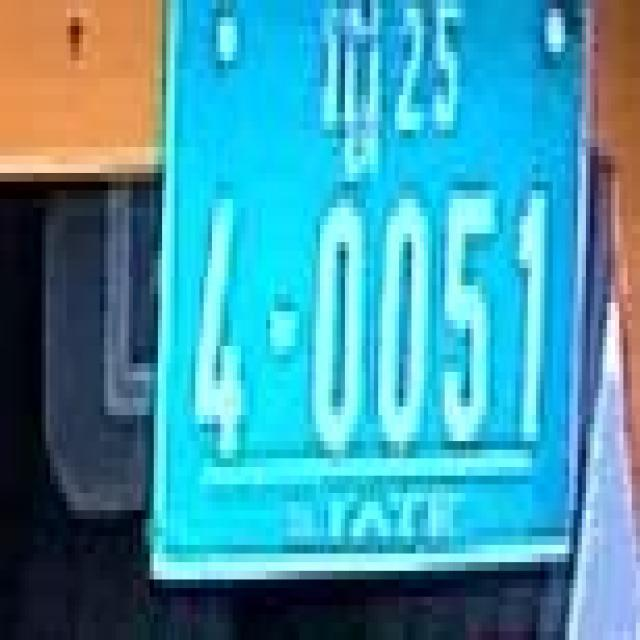State: (312, 0, 380, 180)
